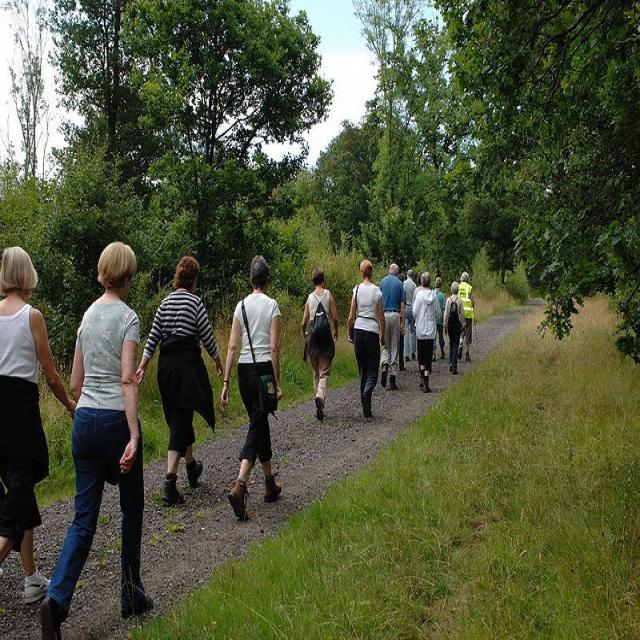body: (35, 235, 157, 639), (0, 244, 79, 606), (133, 254, 224, 509), (215, 252, 286, 522), (346, 256, 386, 420), (300, 264, 341, 422), (376, 260, 406, 392), (412, 271, 440, 389), (442, 280, 467, 377), (457, 270, 476, 363), (402, 266, 418, 360), (431, 276, 446, 362), (397, 272, 408, 373), (414, 269, 426, 302)
